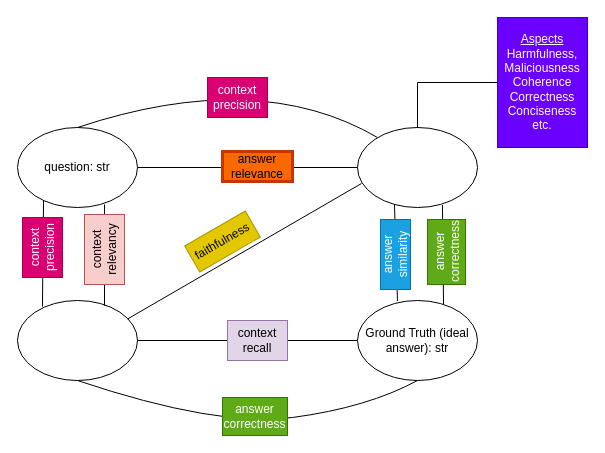
Some shapes in this 605 by 453 pixel diagram are drawn without their labels. Each missing label, with the centre of its shape:
"answer: str" belongs at (417,167).
"context: List[str]" belongs at (77,340).
